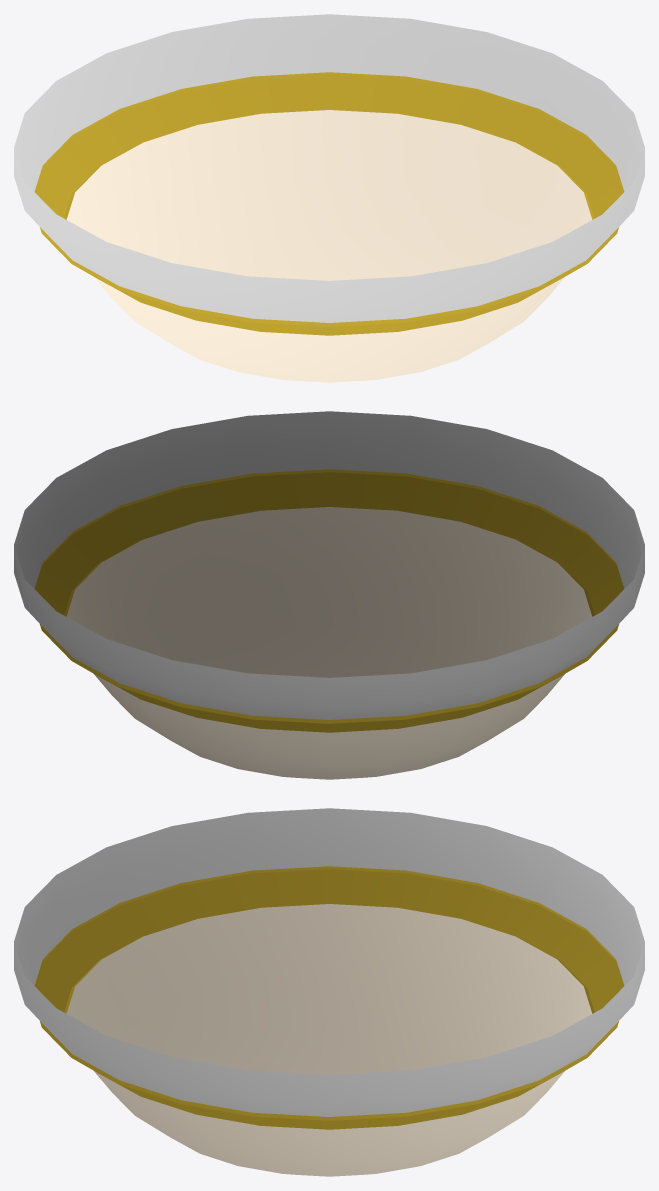
File: FP414:LightFixture4_f528d69d.obj
3 renders of one model, top to bottom at view 1: azimuth 30°, elevation 25°; view 2: azimuth 150°, elevation 25°; view 3: azimuth 270°, elevation 25°, orthographic.
Parts seen in each view (by area): view 1: FP414:LightFixture4_f528d69d; view 2: FP414:LightFixture4_f528d69d; view 3: FP414:LightFixture4_f528d69d.
Boxes of the visible parts, x1,y1,x2,y2 form: FP414:LightFixture4_f528d69d: (14, 14, 644, 382); FP414:LightFixture4_f528d69d: (14, 411, 644, 779); FP414:LightFixture4_f528d69d: (14, 808, 644, 1176).
Size of the model in its own units: 0.4 by 0.1295 by 0.4.
